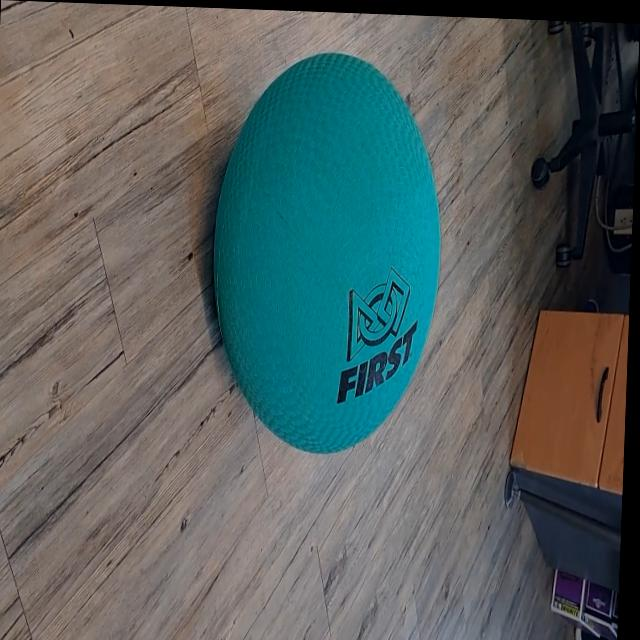ALGAE: (204, 45, 449, 460)
